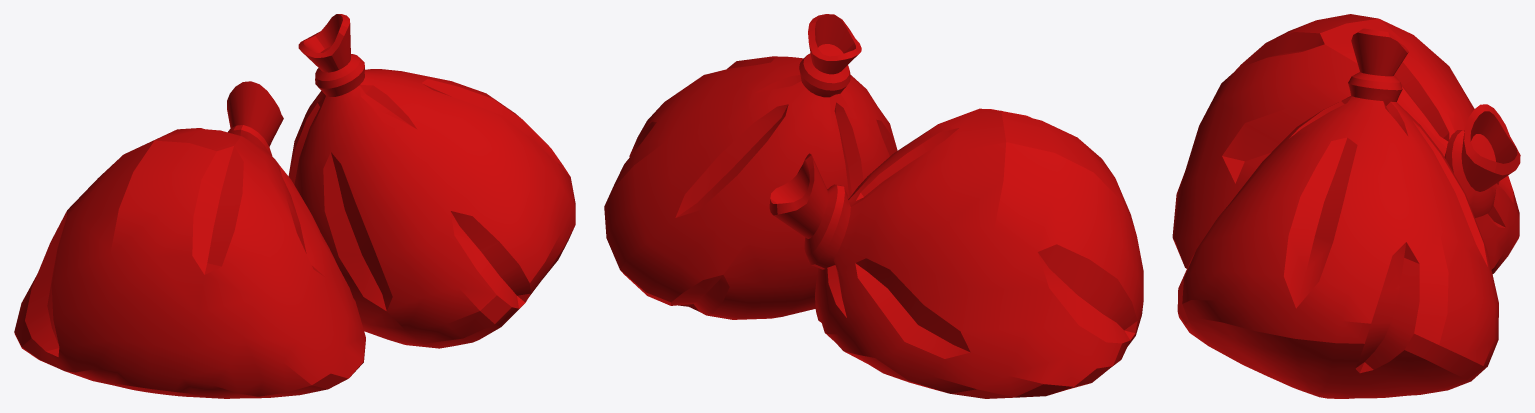
File: metal.glb
3 renders of one model, left to right at view 1: azimuth 30°, elevation 25°; view 2: azimuth 150°, elevation 25°; view 3: azimuth 270°, elevation 25°, orthographic. The views are drawn at different scales.
Visible parts, largest first — view 1: TrashBag_2; view 2: TrashBag_2; view 3: TrashBag_2.
Boxes of the visible parts, x1,y1,x2,y2 form: TrashBag_2: [14, 14, 575, 398]; TrashBag_2: [604, 14, 1143, 398]; TrashBag_2: [1172, 14, 1520, 398].
Size of the model in its own units: 0.9061 by 0.53 by 0.5243.
